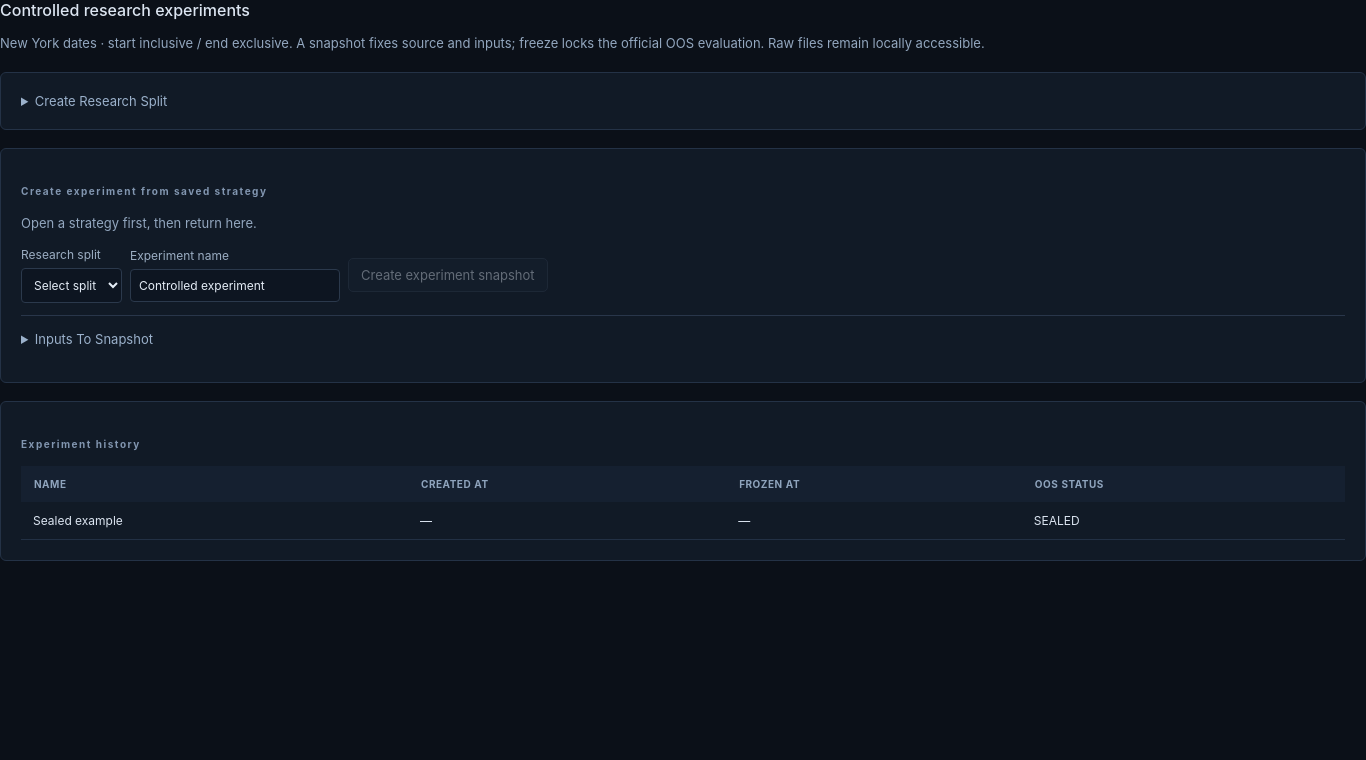
Scenario: sealed experiment cannot reveal before freeze
The width and height of the screenshot is (1366, 760).
Click the text "Sealed example" at (215, 521), box [21,502,408,539]
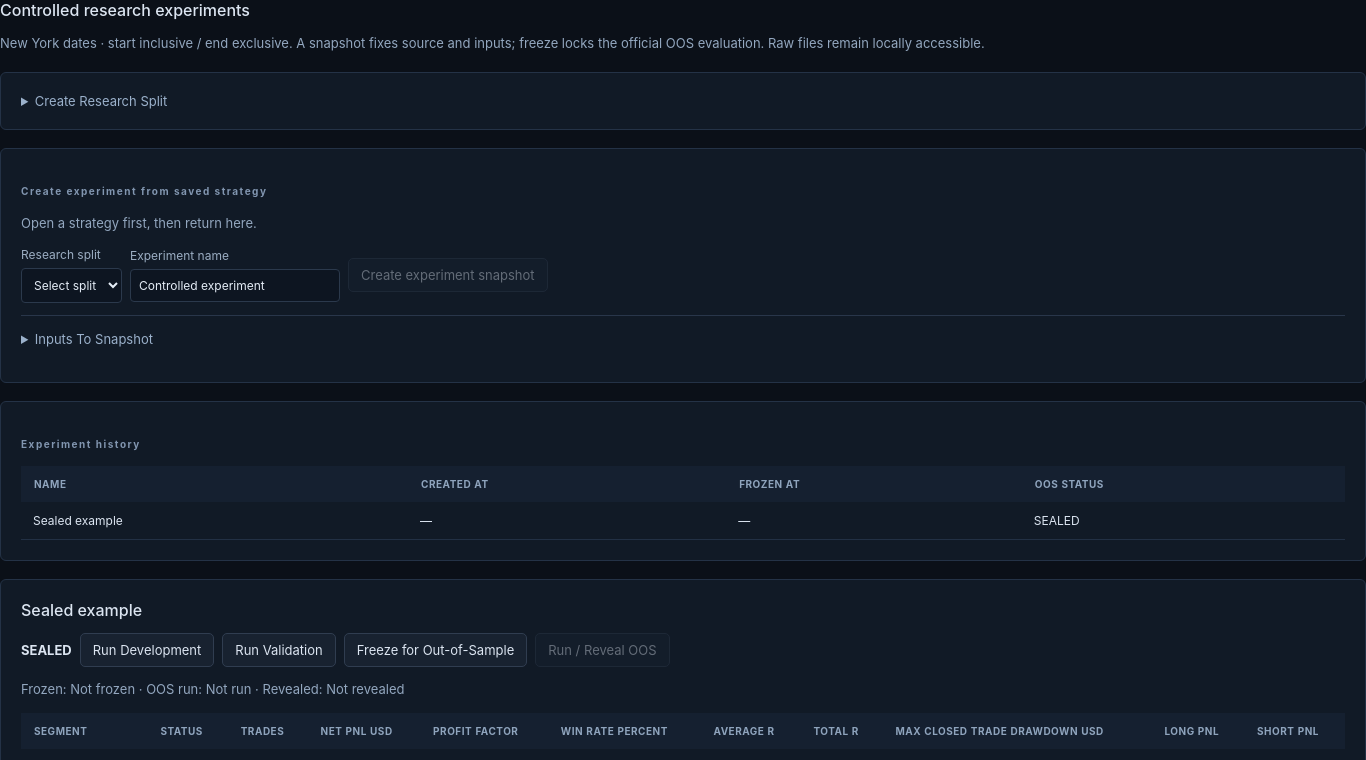
Result: the button "Run / Reveal OOS" is disabled at [535,633,670,667]
Result: the text with test id "oos-status" reads "SEALED" at [21,642,72,658]
